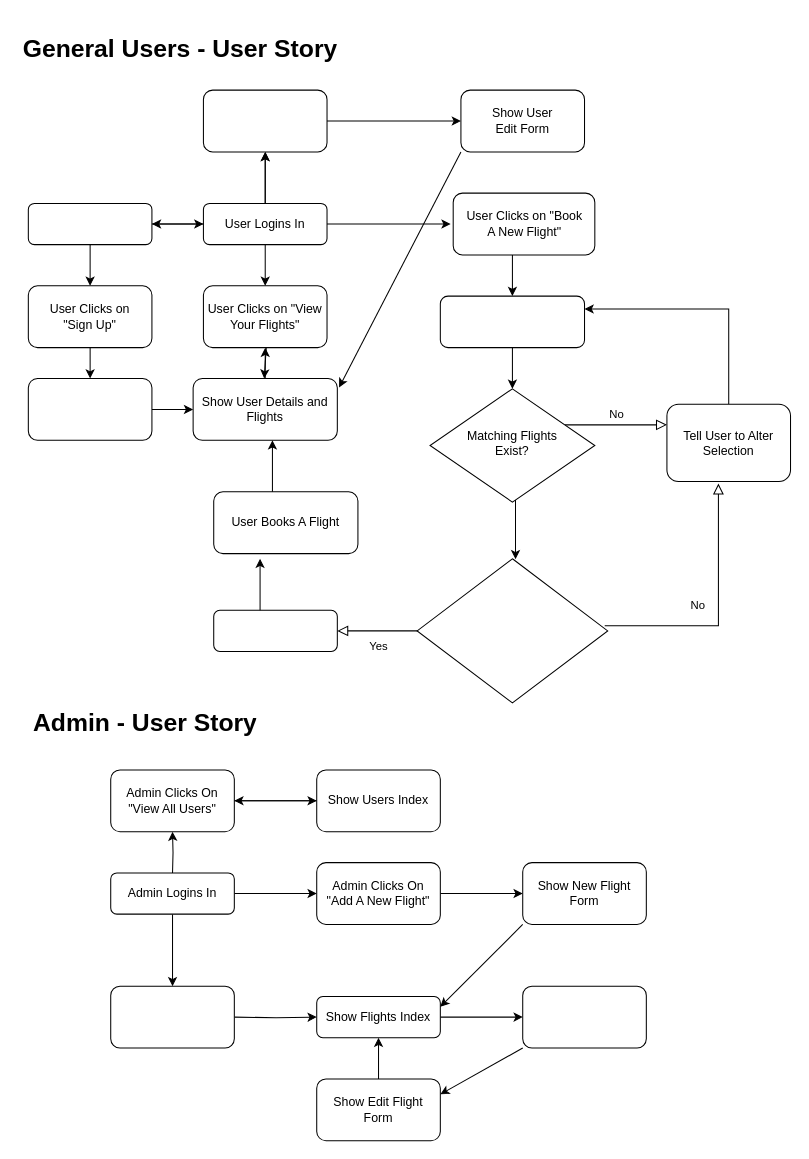
The diagram is 809 pixels wide and 1159 high, and some of its shapes have lost their labels. Each missing label, with the box of its shape:
Admin Clicks on "Edit Flight": (522, 985, 646, 1048)
Admin Clicks On "View All Flights": (110, 985, 234, 1048)
Matching Flights Have Seats?: (416, 558, 608, 703)
Show Flights: (213, 609, 337, 651)
Show Home Page: (27, 202, 152, 245)
User Clicks on "Edit Details": (202, 89, 327, 152)
User Selects Airports, Date and Time: (439, 295, 585, 348)
User Signs Ups: (27, 377, 152, 440)
